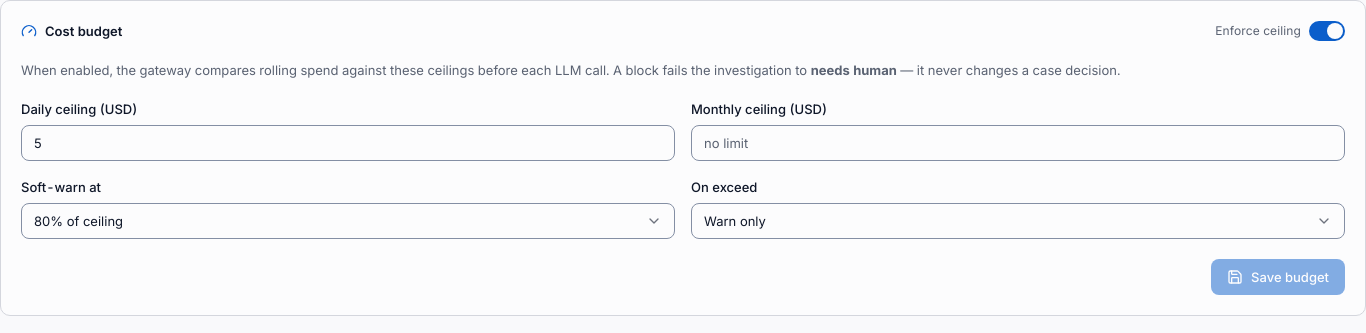
Scenario: BudgetCard ceiling input › preserves raw decimal text while typing and commits a number on blur
The width and height of the screenshot is (1366, 333).
# A trailing zero survives while typing (the old number-bound input collapsed it).
Replace the text in the field labelled "Daily ceiling (USD)" with "10.50": [348, 143] box x1=21 y1=125 x2=675 y2=161
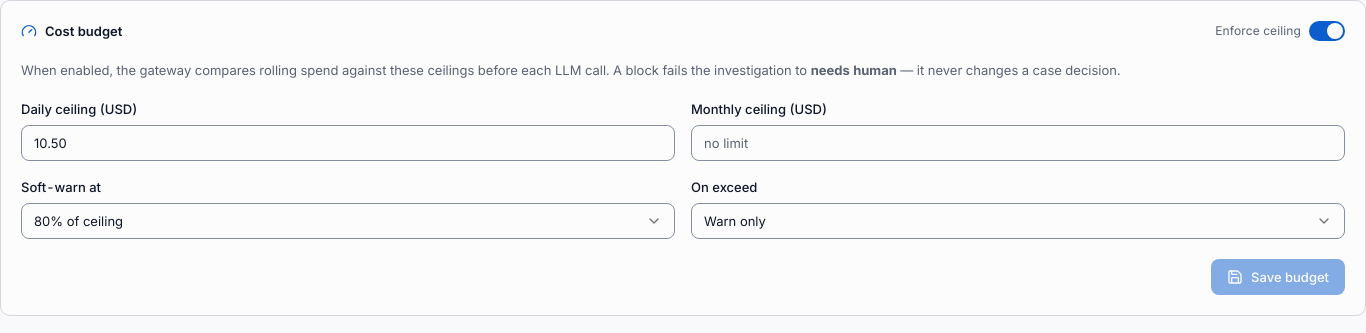
# A lone trailing dot is enterable too.
Replace the text in the field labelled "Daily ceiling (USD)" with "10.": [348, 143] box x1=21 y1=125 x2=675 y2=161
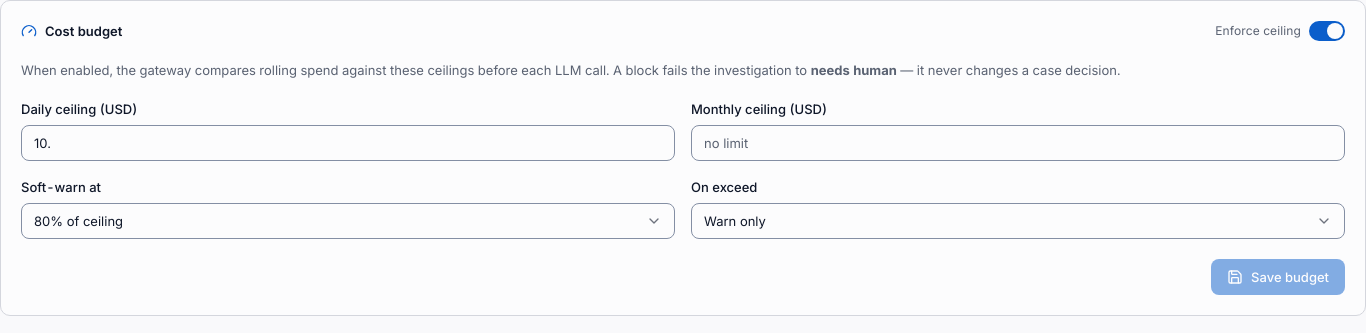
# On blur the raw text is parsed + normalised to the committed number.
Replace the text in the field labelled "Daily ceiling (USD)" with "10.50": [348, 143] box x1=21 y1=125 x2=675 y2=161
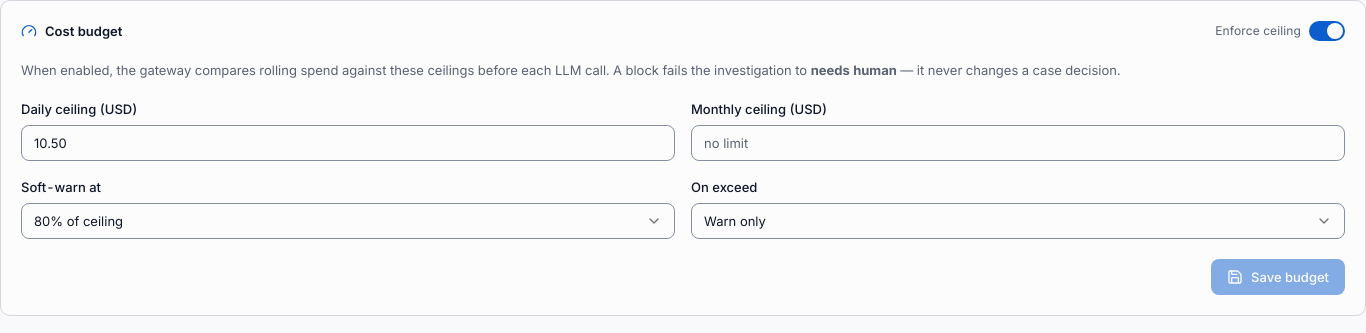
Leave the field labelled "Daily ceiling (USD)", box x1=21 y1=125 x2=675 y2=161
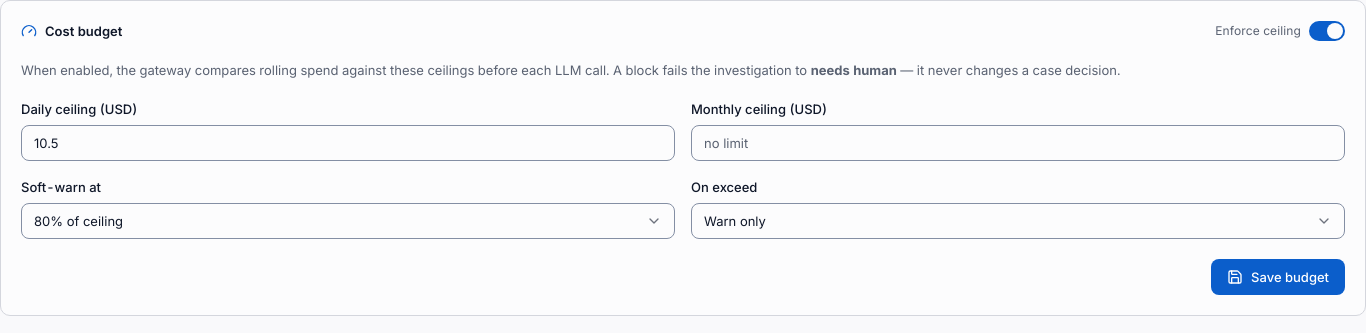
Expected: the field labelled "Daily ceiling (USD)" holds "10.5", x1=21 y1=125 x2=675 y2=161
